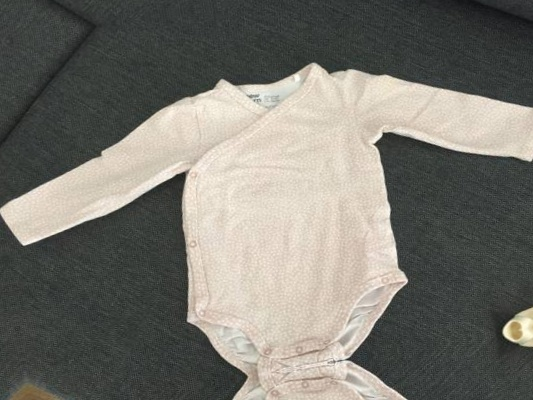Body: (0, 24, 533, 400), (40, 322, 533, 400), (0, 120, 23, 400)
